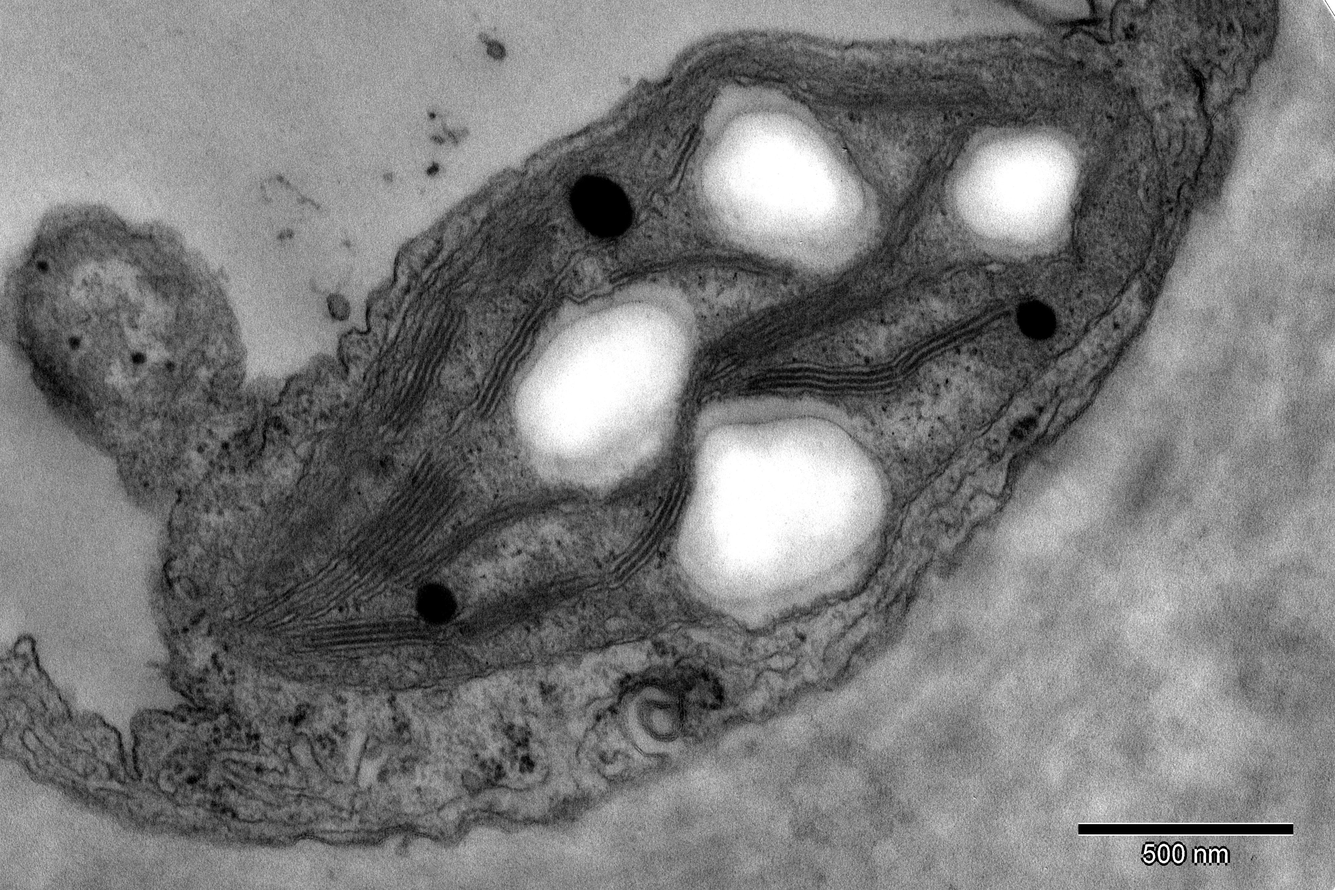granum: (749, 291, 1017, 400), (708, 254, 880, 369), (602, 395, 701, 592), (360, 286, 472, 447), (339, 450, 472, 582), (462, 282, 565, 425), (456, 563, 601, 648), (299, 610, 428, 653)
